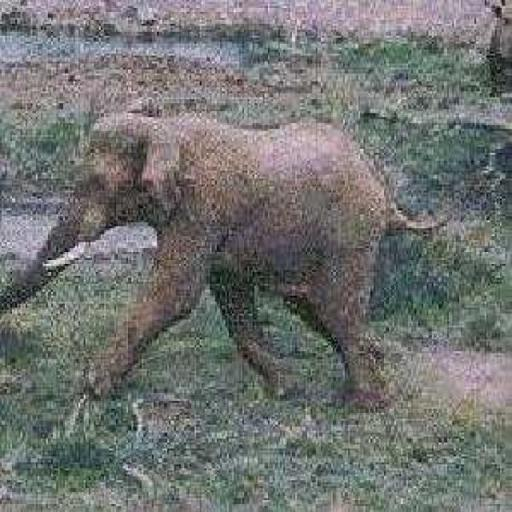Bear: (22, 107, 440, 411)
